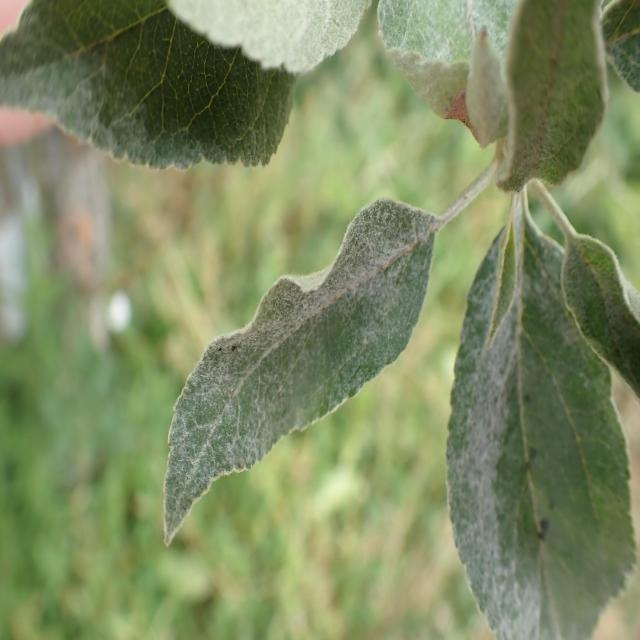healthy: (162, 195, 438, 548), (446, 181, 637, 638), (1, 0, 296, 171)
